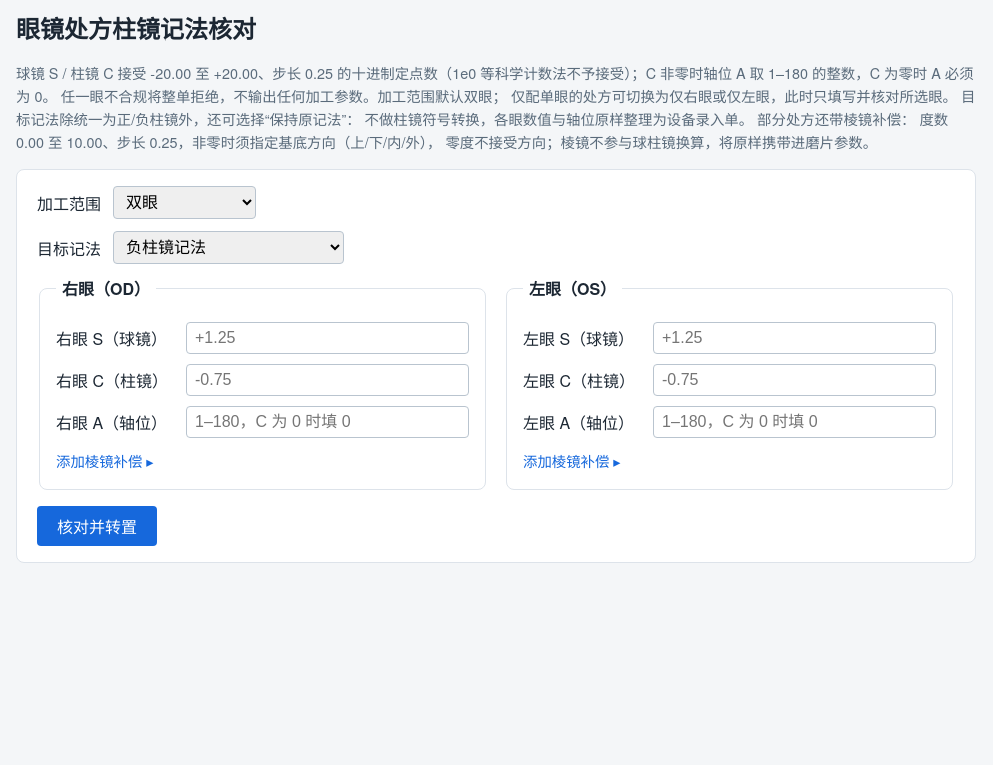
Test case: 处方核对页 › 服务不可达时给出提示且不留结果
Type "1.00" into the field labelled "右眼 S（球镜）" at (328, 338), box 186,322 -> 469,354
Type "2.00" into the field labelled "右眼 C（柱镜）" at (328, 380), box 186,364 -> 469,396
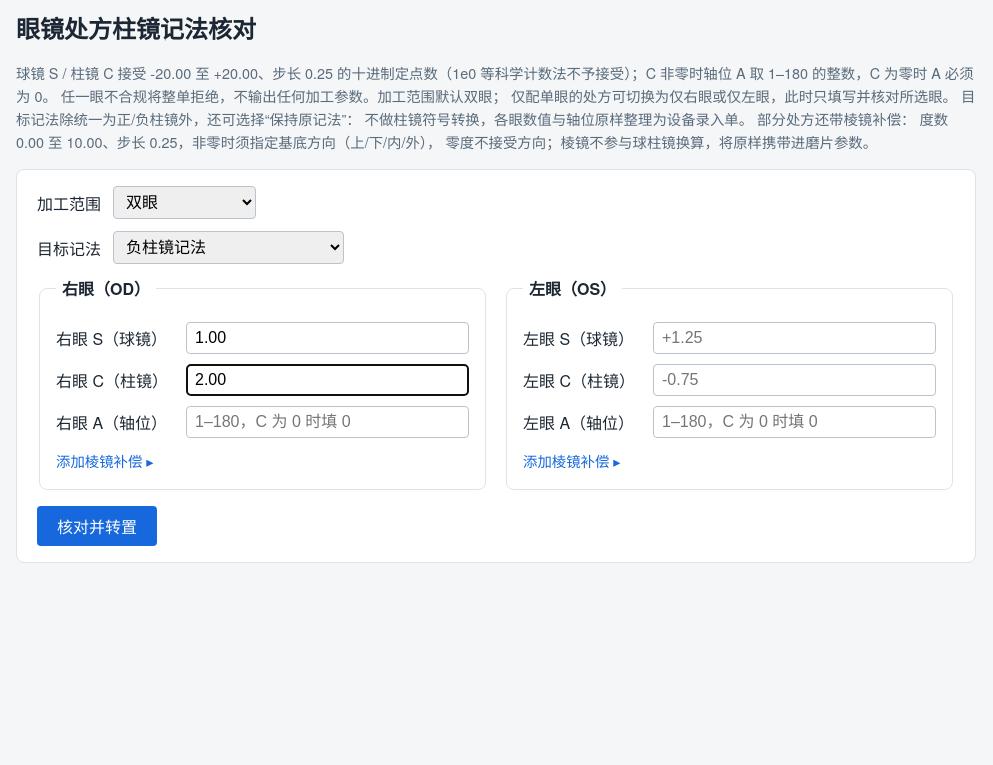
Type "30" into the field labelled "右眼 A（轴位）" at (328, 422), box 186,406 -> 469,438
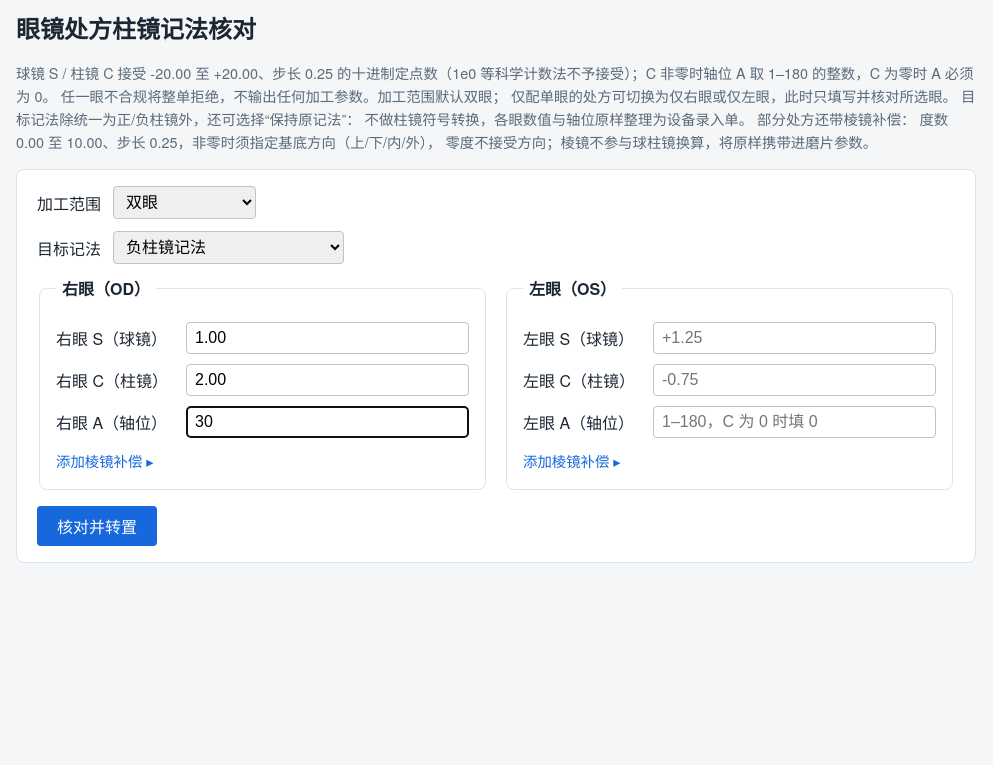
Type "-1.25" into the field labelled "左眼 S（球镜）" at (794, 338), box 653,322 -> 936,354
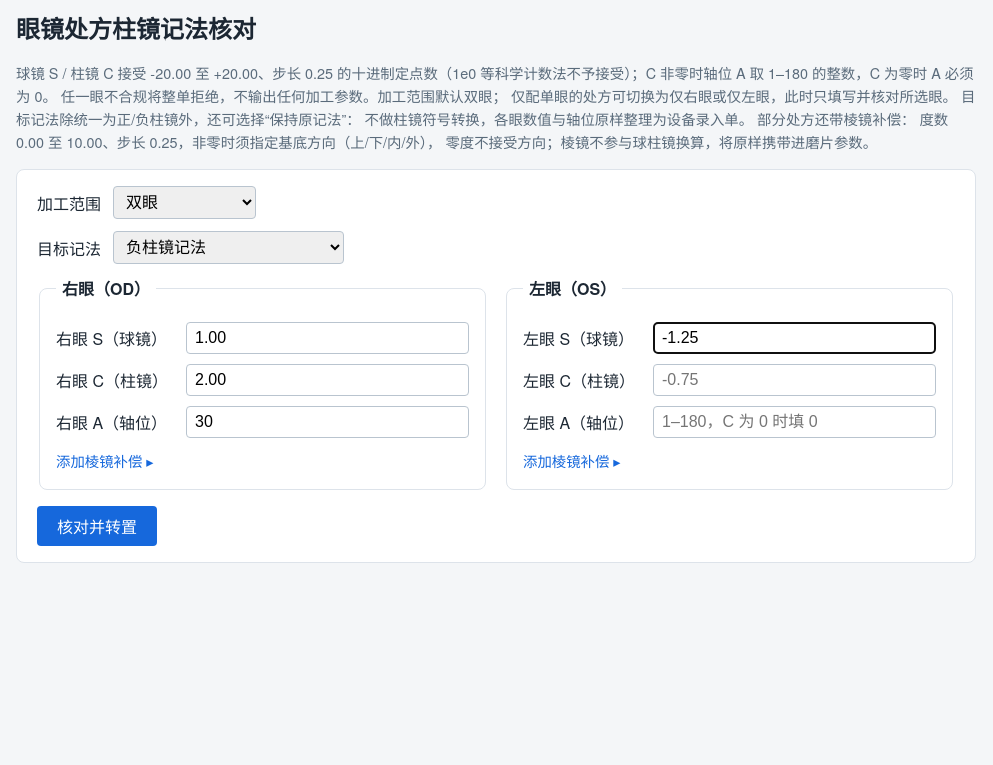
Type "-0.50" into the field labelled "左眼 C（柱镜）" at (794, 380), box 653,364 -> 936,396
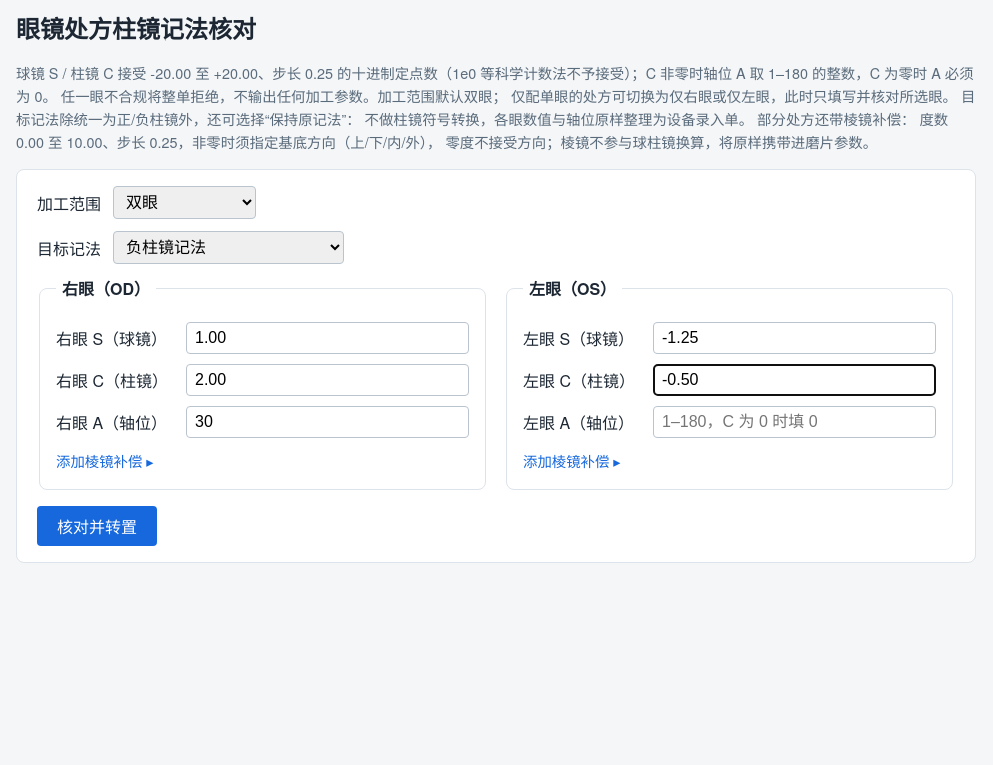
Type "85" into the field labelled "左眼 A（轴位）" at (794, 422), box 653,406 -> 936,438
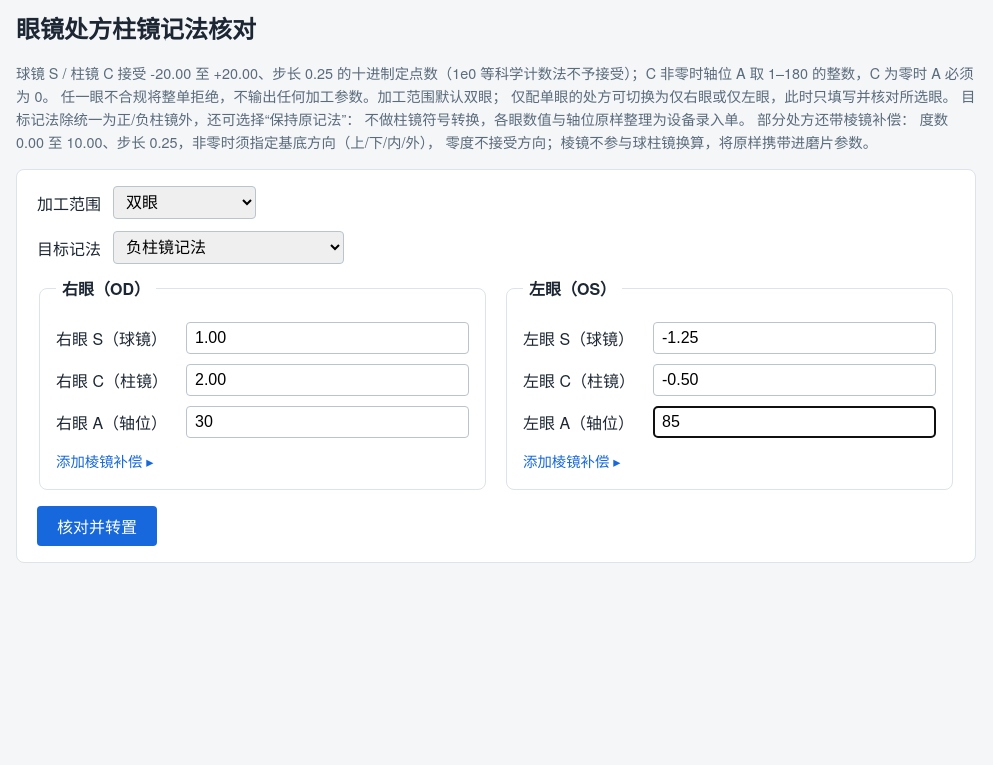
Click the button "核对并转置" at (97, 526), box 37,506 -> 157,546
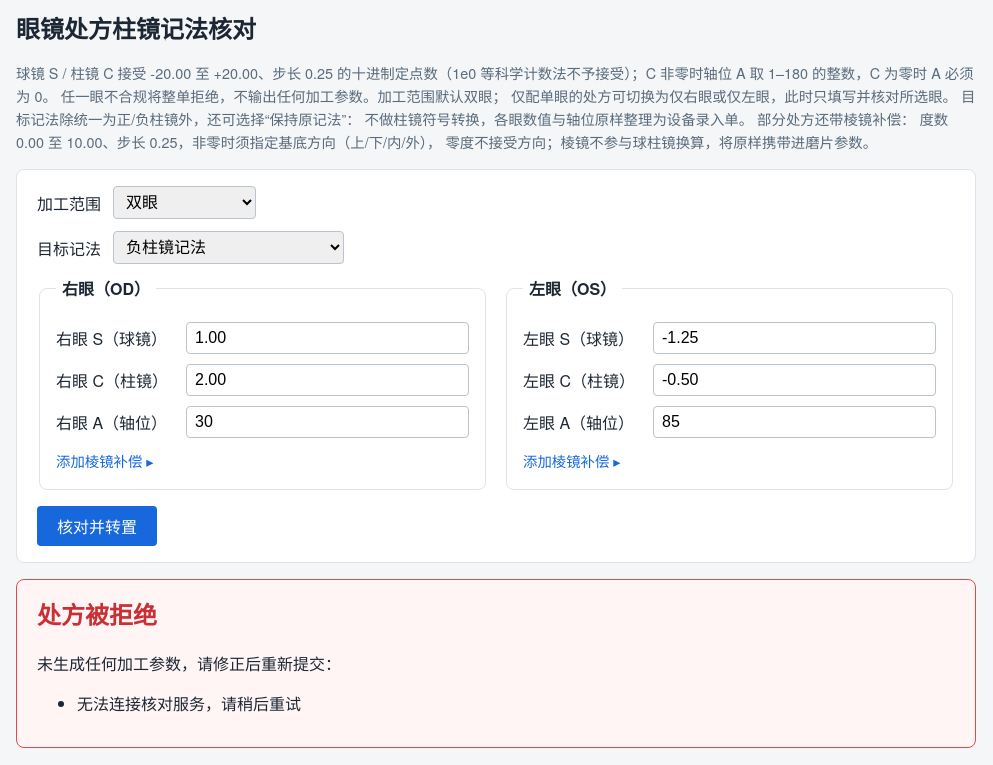
Check: the message shows "无法连接核对服务", box 77,692 -> 301,715
